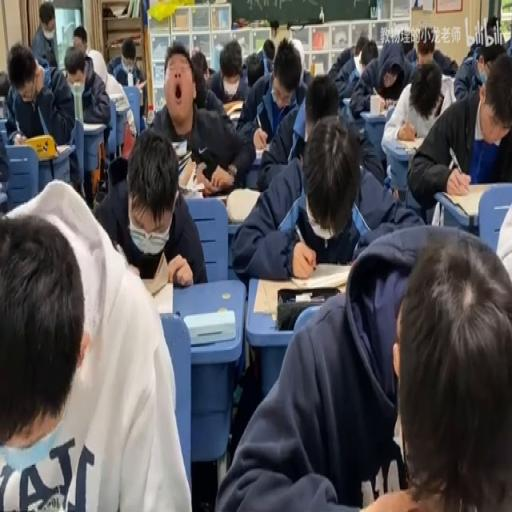calculator: (252, 269, 350, 313), (184, 308, 234, 342), (226, 186, 260, 225), (147, 277, 173, 316), (177, 156, 202, 195), (222, 100, 244, 120), (394, 136, 423, 150), (170, 138, 188, 155), (82, 120, 104, 132), (360, 110, 386, 120), (153, 40, 166, 57), (252, 145, 266, 158), (55, 144, 71, 155), (134, 78, 146, 91), (341, 94, 350, 111), (312, 60, 322, 74)
paper: (346, 230, 510, 512), (230, 110, 413, 284), (0, 209, 85, 448), (95, 128, 205, 287), (407, 50, 512, 212), (61, 43, 113, 199), (3, 40, 74, 148), (330, 33, 378, 104), (404, 24, 458, 84), (206, 38, 248, 112), (106, 36, 144, 116), (301, 71, 339, 139), (493, 186, 512, 305), (31, 0, 58, 70), (454, 48, 486, 98), (0, 104, 10, 202), (380, 66, 406, 100), (245, 51, 265, 87), (480, 43, 505, 71), (190, 48, 208, 81), (290, 36, 304, 74), (440, 75, 456, 107), (72, 24, 87, 56), (398, 28, 414, 54), (38, 57, 51, 88), (262, 38, 276, 62), (354, 36, 368, 58), (486, 14, 499, 37), (0, 70, 9, 101), (444, 58, 458, 76)
person: (202, 180, 234, 194)
